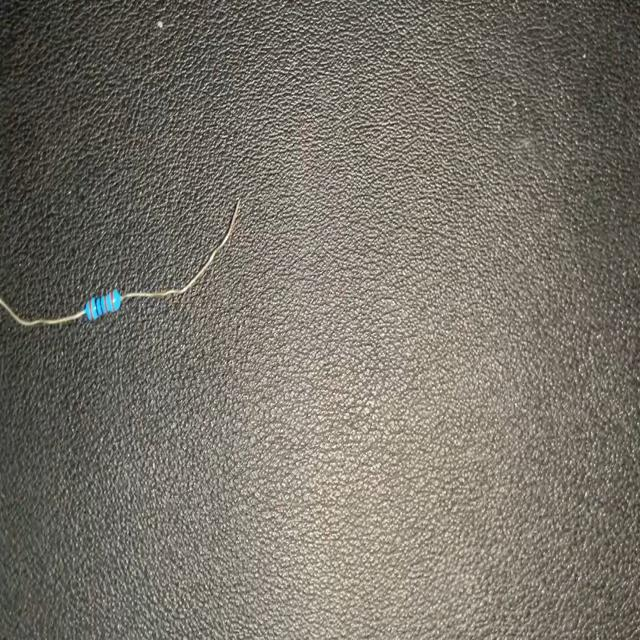resistor: (0, 197, 242, 329)
